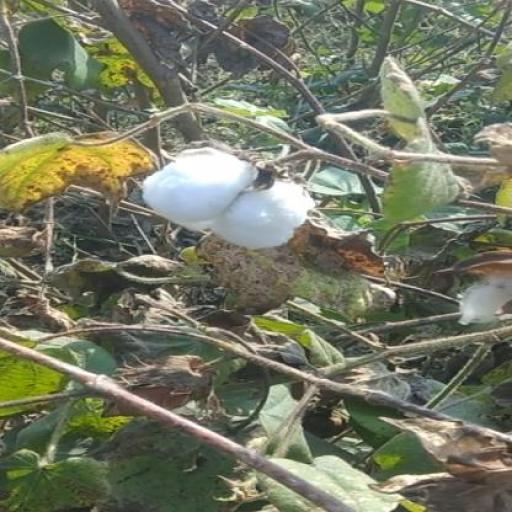cotton_ready: (117, 142, 353, 264)
